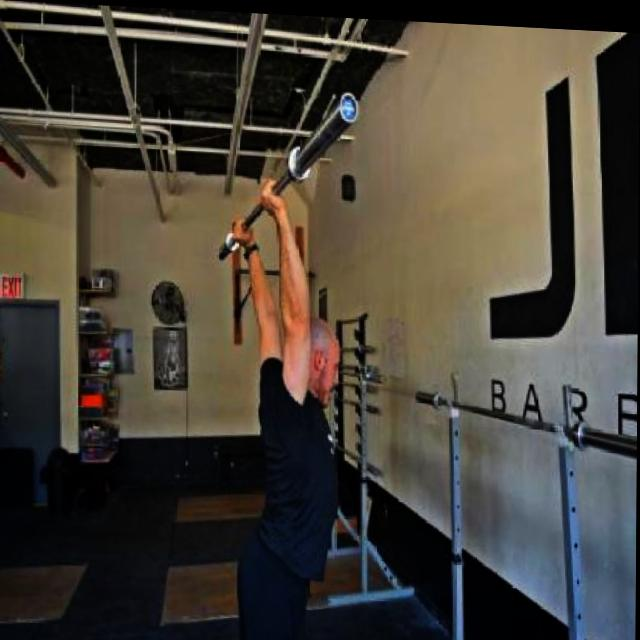barbell: (286, 83, 363, 184)
